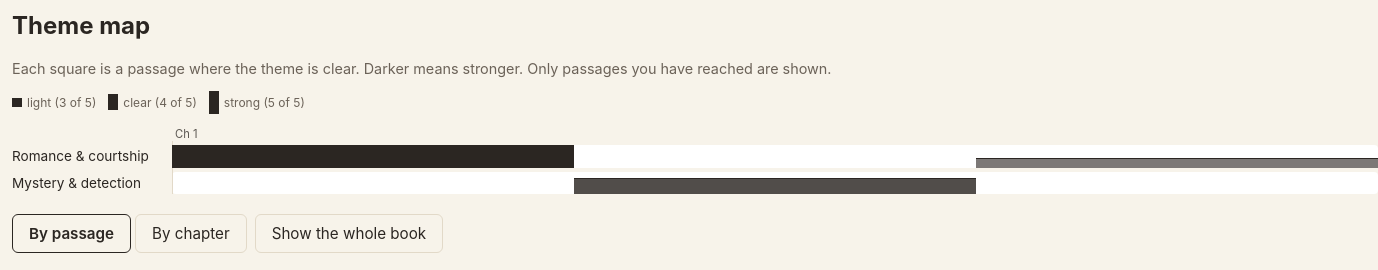
Test: how much of the book the chart spans › shows no tag beyond the reader's position even across the whole book
This screenshot has width=1378, height=270.
Click the button "Show the whole book" at (349, 233), box [255, 214, 443, 253]
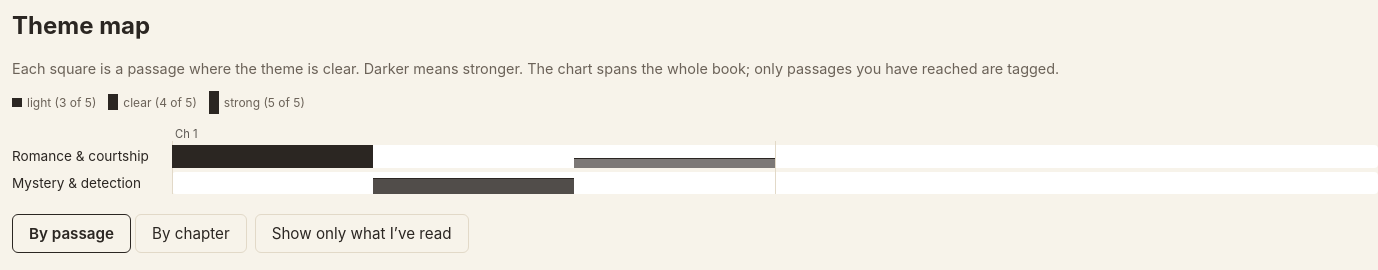
Check: the text "only passages you have reached are tagged" is shown, box [523, 60, 1059, 77]
